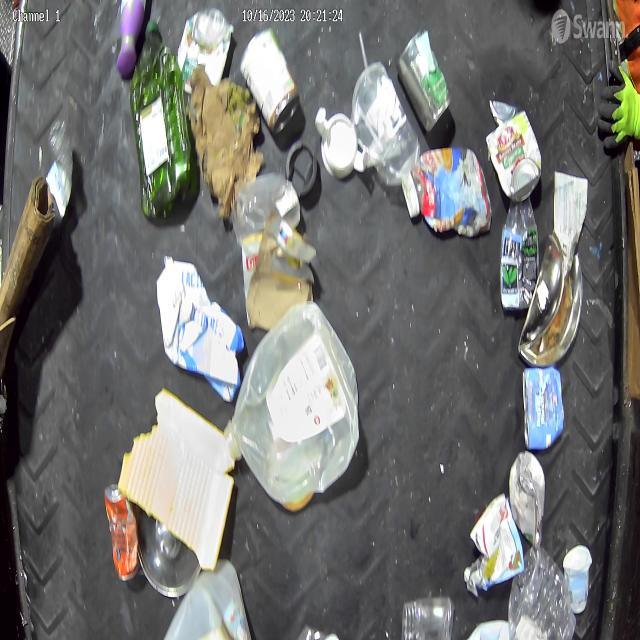can: (239, 25, 300, 137), (485, 98, 543, 202), (395, 28, 451, 134), (522, 366, 564, 450), (103, 485, 138, 582)
milk_jug: (224, 298, 359, 507), (164, 557, 253, 640)
